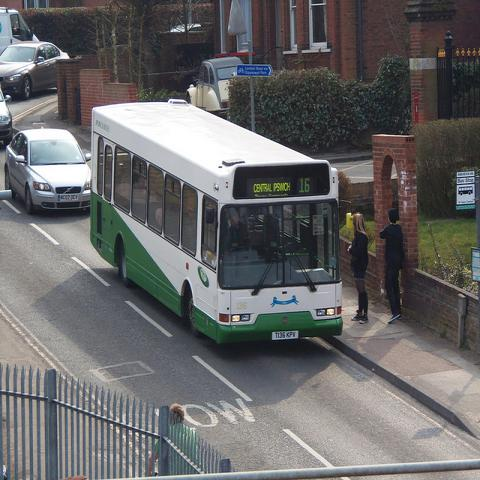bus: (88, 96, 344, 350)
car: (4, 130, 91, 216), (0, 42, 69, 102), (185, 58, 245, 109), (1, 93, 13, 145)
